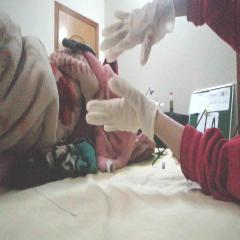gloved: (100, 0, 176, 63), (86, 77, 156, 132)
